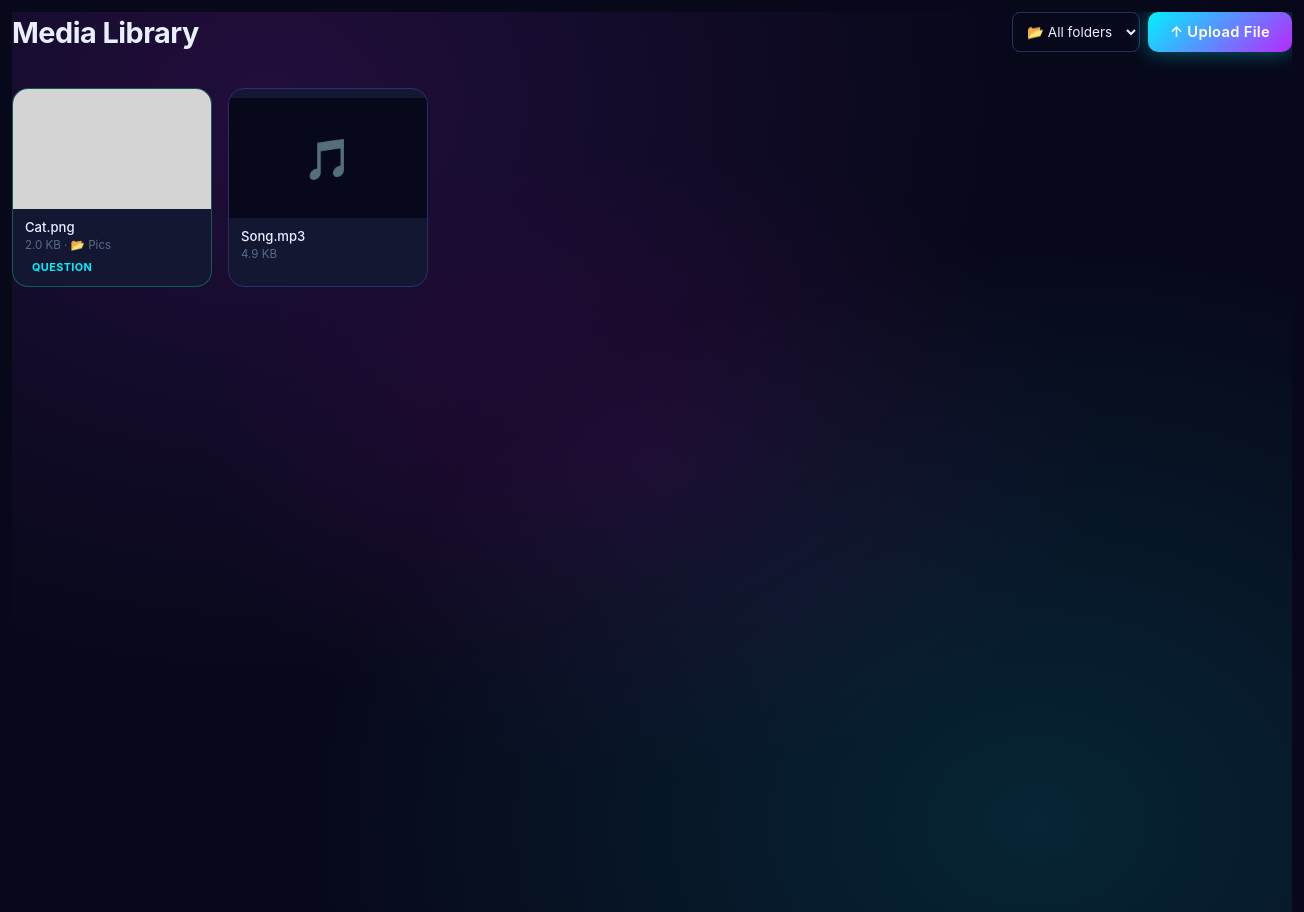
MediaLibrary › filters by folder
The width and height of the screenshot is (1304, 912).
Select "Pics" in the dropdown titled "Filter by folder" at (1076, 32), box [1012,12,1140,52]
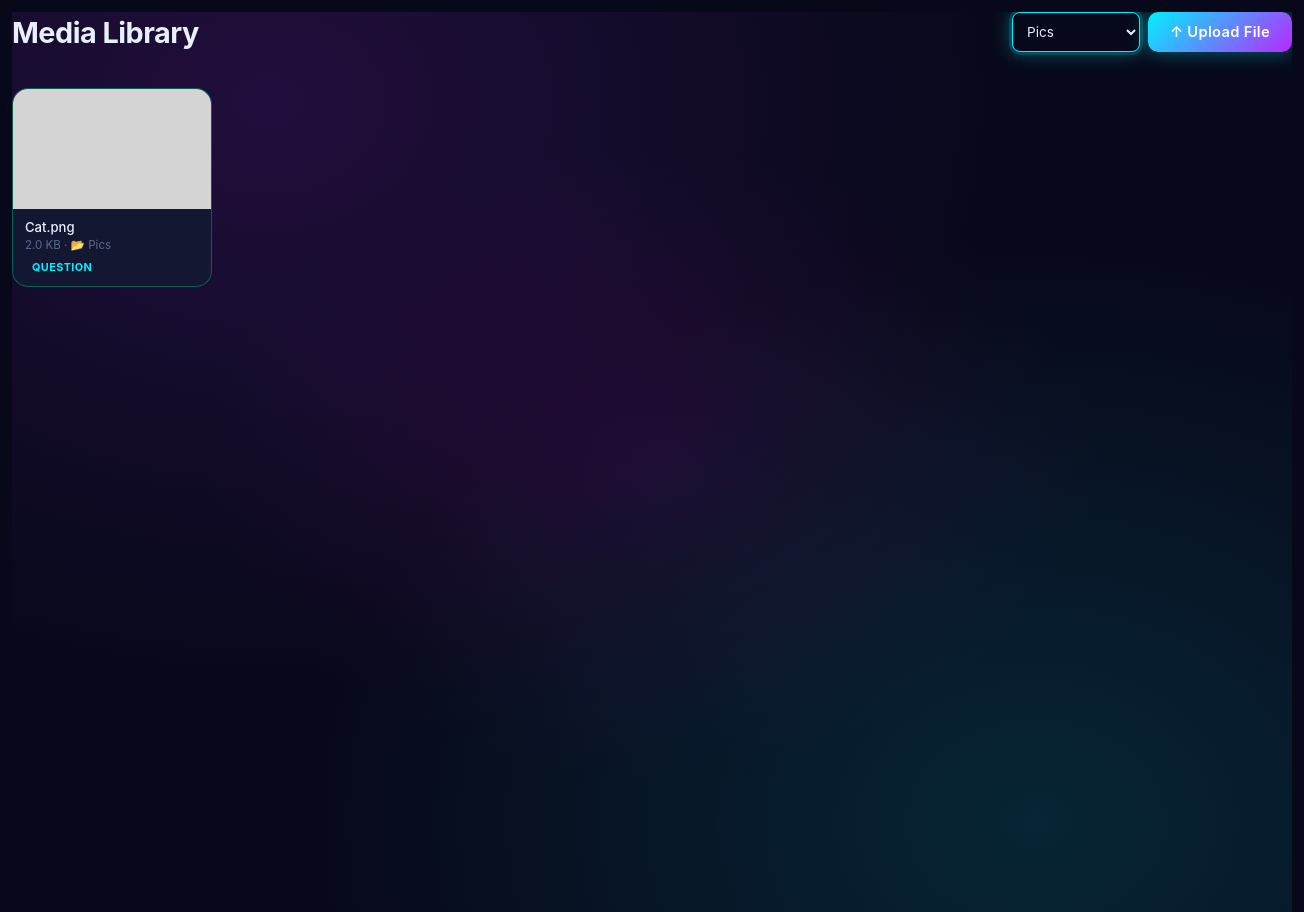
expect the button titled "Song.mp3" is gone: met
